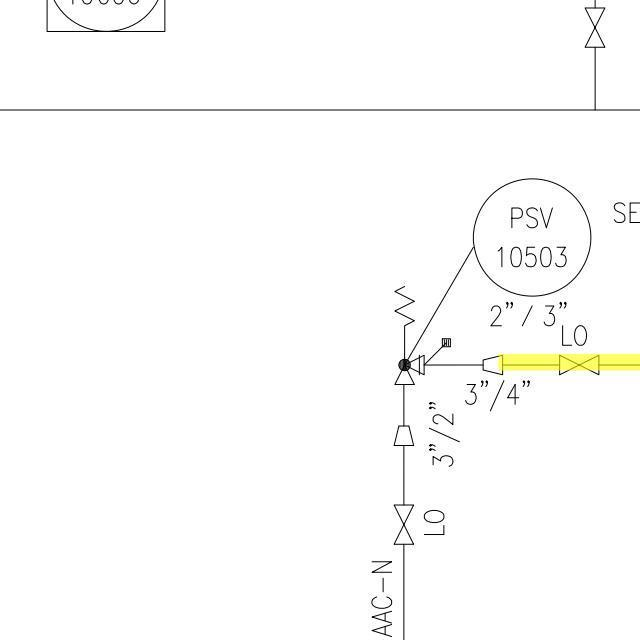GV: (580, 5, 612, 53), (387, 502, 418, 549), (555, 353, 603, 376)
RPV: (389, 276, 433, 391)
SP: (479, 353, 507, 377), (393, 422, 415, 449)
